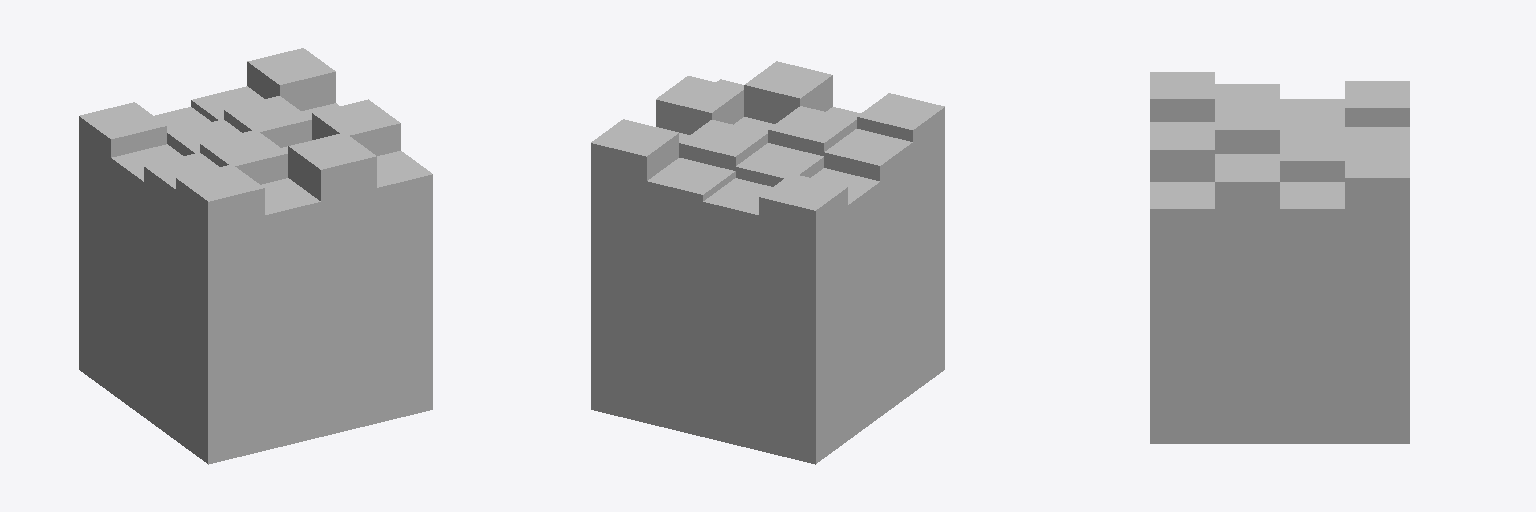
The model's file is wall.obj.
3 renders of one model, left to right at view 1: azimuth 30°, elevation 25°; view 2: azimuth 150°, elevation 25°; view 3: azimuth 270°, elevation 25°, orthographic.
Visible parts, largest first — view 1: Cube; view 2: Cube; view 3: Cube.
Boxes of the visible parts, x1=… form: Cube: x1=79, y1=48, x2=432, y2=464; Cube: x1=591, y1=61, x2=944, y2=464; Cube: x1=1150, y1=72, x2=1409, y2=443.
Bounding box in the file's own units: 2 × 2.27 × 2.